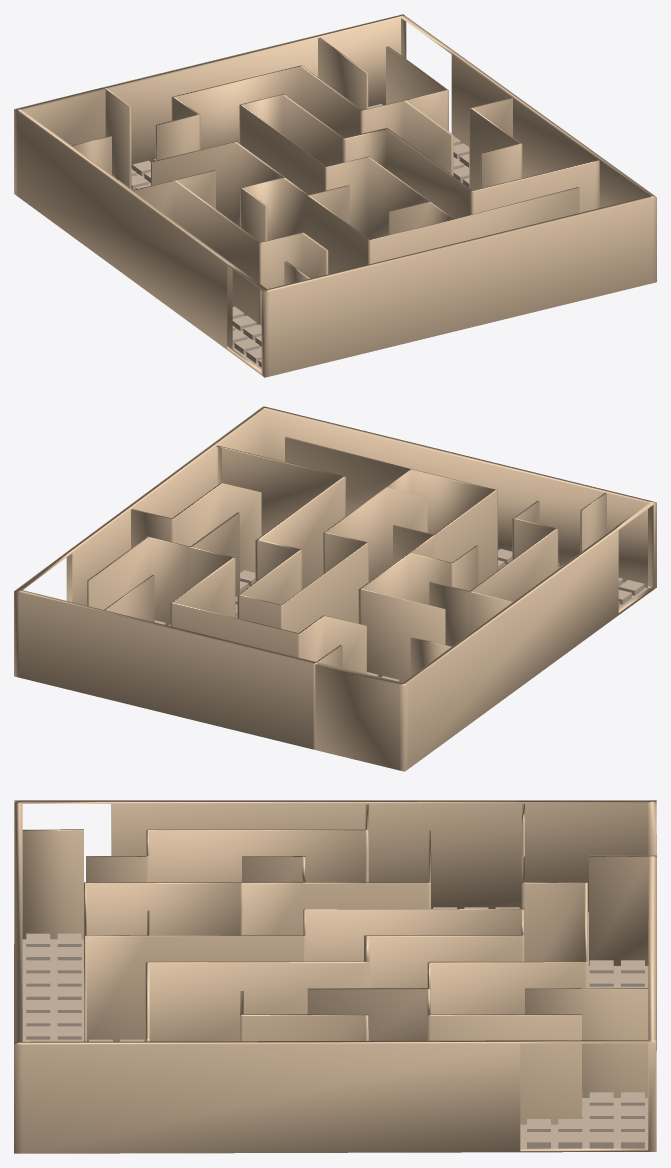
The model's file is Labyrinth.fbx.
3 views of the same model, one above another, from view 1: azimuth 30°, elevation 25°; view 2: azimuth 150°, elevation 25°; view 3: azimuth 270°, elevation 25° (orthographic). The views are drawn at different scales.
Parts seen in each view (by area): view 1: Cube_001; view 2: Cube_001; view 3: Cube_001.
Part boxes in pixels (box(x1,y1,x2,y2)): Cube_001: box(14, 14, 656, 377); Cube_001: box(14, 406, 656, 771); Cube_001: box(14, 800, 656, 1153).
Size of the model in its own units: 2407 by 509 by 2671.
